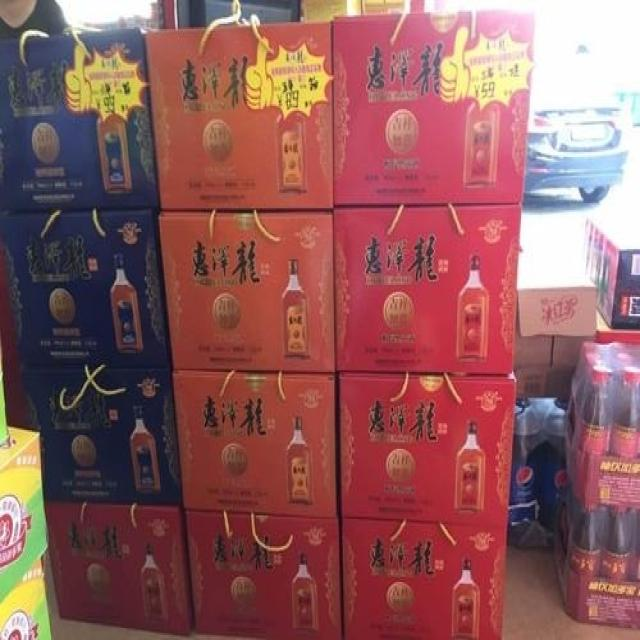box: (332, 12, 534, 205), (143, 22, 336, 208), (335, 206, 525, 376), (158, 208, 338, 371), (0, 31, 158, 207), (337, 370, 516, 525), (0, 207, 172, 366), (173, 367, 338, 515), (22, 366, 180, 504), (183, 502, 341, 638), (337, 514, 510, 638), (45, 498, 195, 635), (517, 207, 598, 368), (0, 358, 48, 602), (0, 555, 52, 637), (514, 366, 574, 400)
